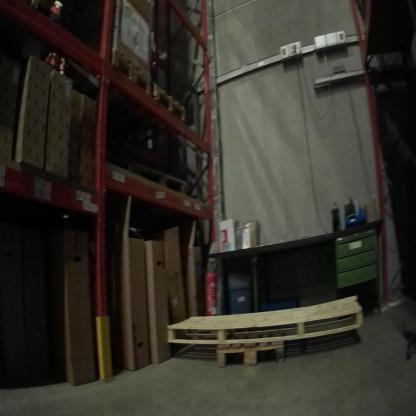pallet: (165, 294, 367, 346), (213, 332, 292, 369), (124, 156, 187, 196), (108, 49, 155, 101), (153, 82, 190, 123)
